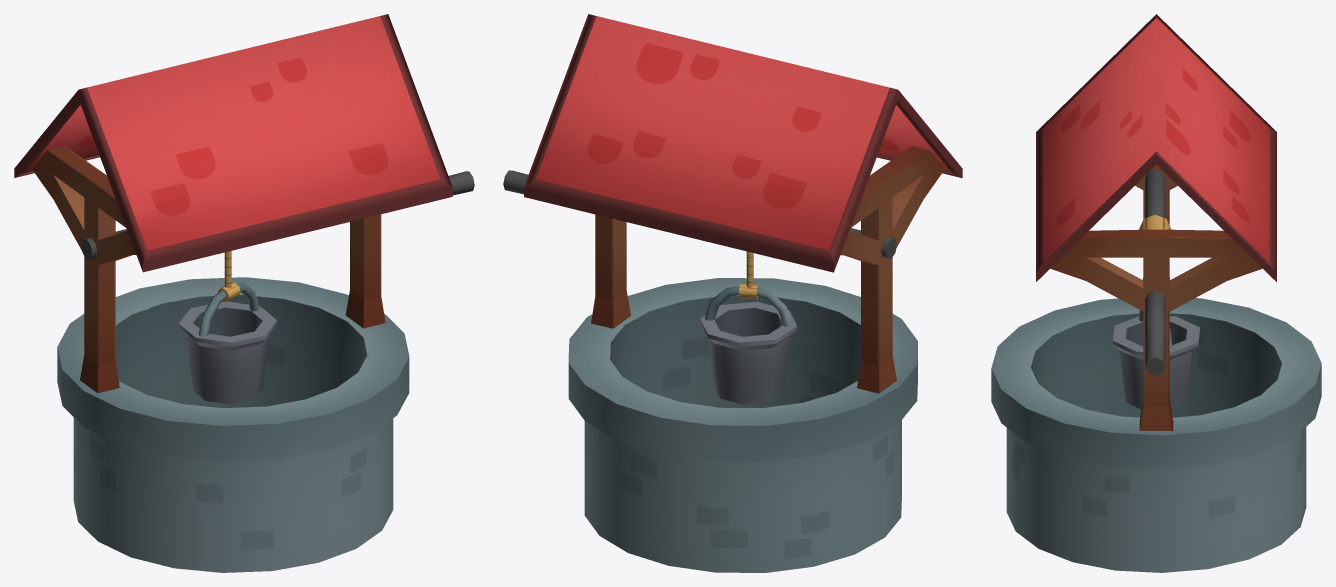
The model's file is well.fbx.
3 renders of one model, left to right at view 1: azimuth 30°, elevation 25°; view 2: azimuth 150°, elevation 25°; view 3: azimuth 270°, elevation 25°, orthographic. The views are drawn at different scales.
Visible parts, largest first — view 1: well; view 2: well; view 3: well.
Boxes of the visible parts, box(x1,y1,x2,y2) form: well: box(14, 14, 474, 572); well: box(503, 14, 962, 572); well: box(991, 14, 1321, 572).
Bounding box in the file's own units: 2.65 × 2.95 × 2.08.
